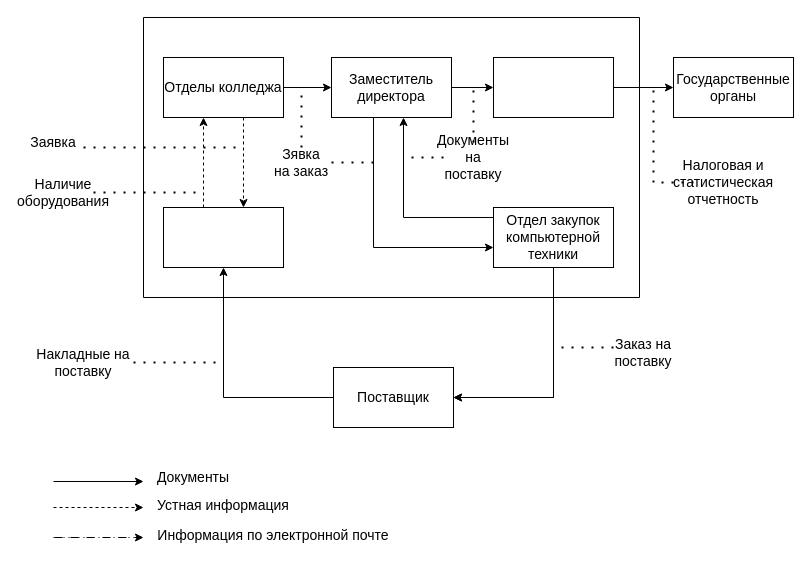
Image size: 811x570. Some labels were removed from this diagram. The centre of each missing label's shape, as x and y in pixels:
"Бухгалтерия" belongs at (x=553, y=87).
"Склад" belongs at (x=223, y=237).
